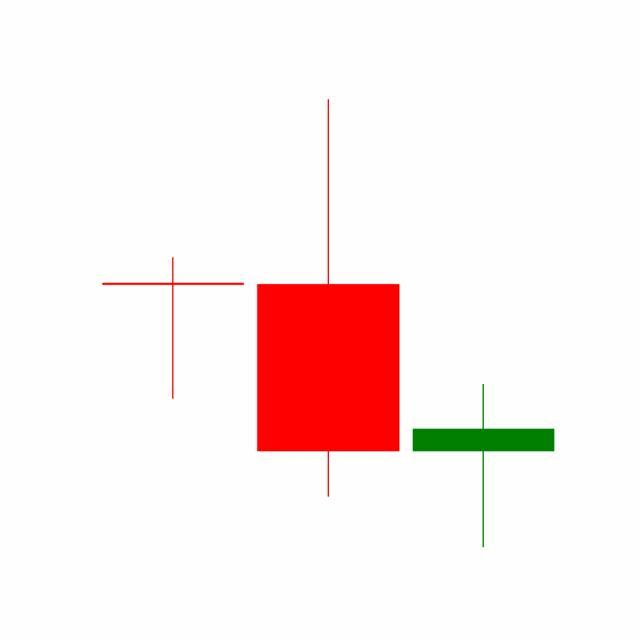Spinning Top: (406, 383, 562, 551)
